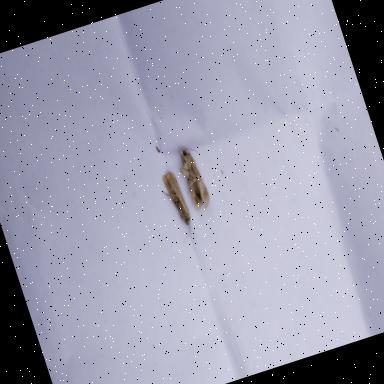pbw: (173, 142, 218, 216), (157, 170, 198, 245)
